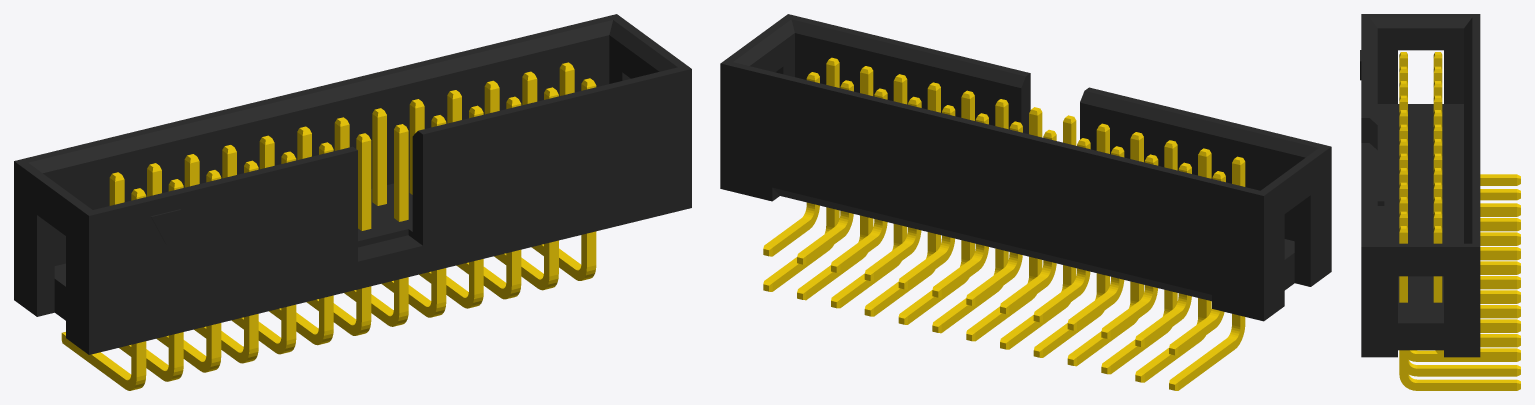
Rendered from DS1013-26R (IDC-26R CONNFLY).obj.
3 renders of one model, left to right at view 1: azimuth 30°, elevation 25°; view 2: azimuth 150°, elevation 25°; view 3: azimuth 270°, elevation 25°, orthographic. The views are drawn at different scales.
Visible parts, largest first — view 1: DS1013-26R_(IDC-26R_CONNFLY); view 2: DS1013-26R_(IDC-26R_CONNFLY); view 3: DS1013-26R_(IDC-26R_CONNFLY).
Part boxes in pixels (<box>): DS1013-26R_(IDC-26R_CONNFLY): <box>14,14,691,390</box>; DS1013-26R_(IDC-26R_CONNFLY): <box>720,14,1331,390</box>; DS1013-26R_(IDC-26R_CONNFLY): <box>1360,14,1520,390</box>.
Size of the model in its own units: 0.0294 by 0.0101 by 0.00857.
